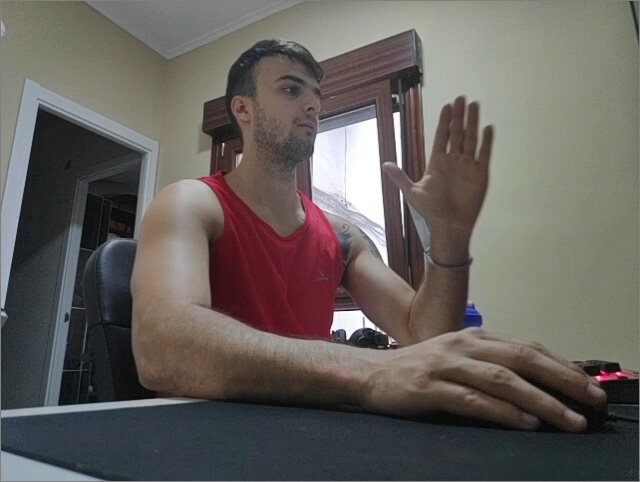Palm: (381, 94, 497, 232)
